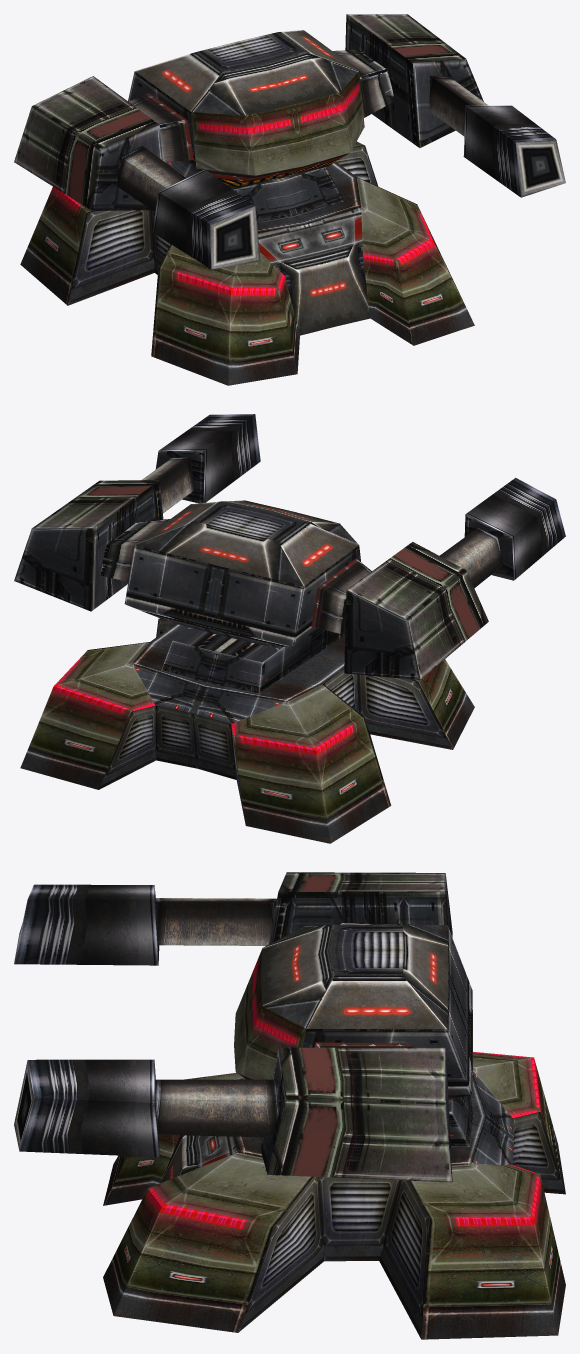
The model's file is turret-12.DAE.
3 views of the same model, one above another, from view 1: azimuth 30°, elevation 25°; view 2: azimuth 150°, elevation 25°; view 3: azimuth 270°, elevation 25° (orthographic). The views are drawn at different scales.
Parts seen in each view (by area): view 1: turret-12; view 2: turret-12; view 3: turret-12.
Part boxes in pixels (bbox=[...]): turret-12: bbox=[14, 14, 565, 385]; turret-12: bbox=[14, 414, 565, 843]; turret-12: bbox=[14, 872, 565, 1339].
Size of the model in its own units: 4.46 by 4.16 by 2.42.
